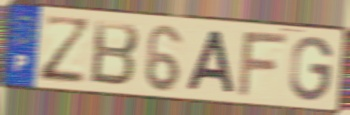6: (143, 21, 183, 94)
A: (184, 29, 237, 97)
B: (88, 18, 141, 89)
F: (235, 31, 290, 99)
G: (288, 35, 336, 104)
Z: (37, 13, 94, 85)
